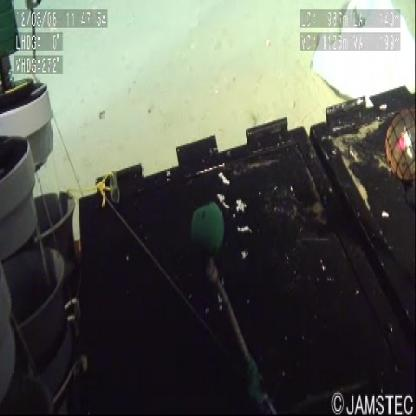Rov: (1, 6, 416, 416)
Rác: (307, 1, 416, 120)
